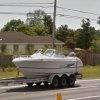Boat: (9, 38, 87, 87)
